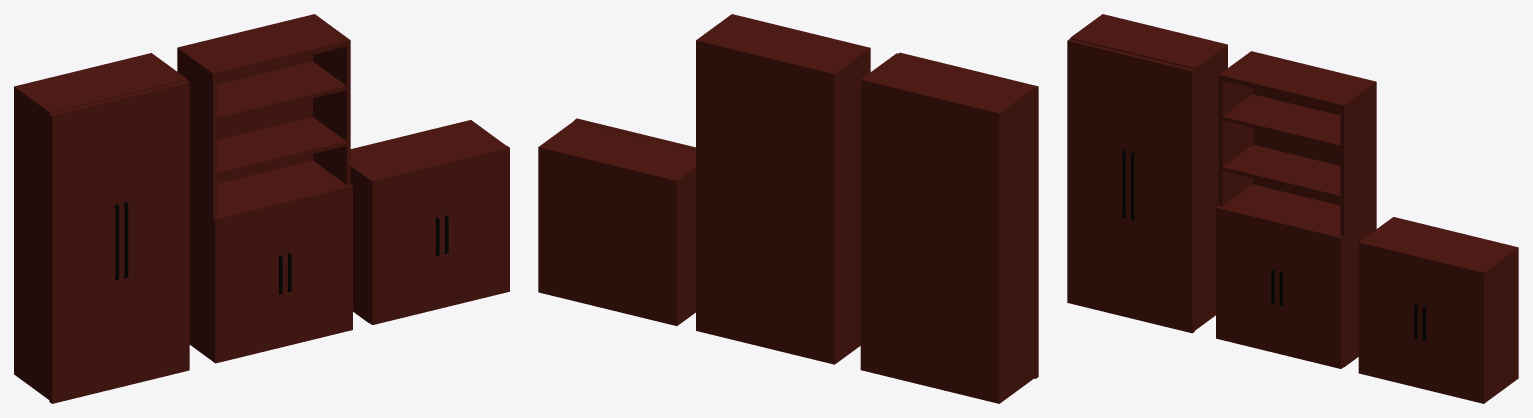
File: file_storage.fbx
3 views of the same model, side by side, from view 1: azimuth 30°, elevation 25°; view 2: azimuth 150°, elevation 25°; view 3: azimuth 330°, elevation 25° (orthographic). The views are drawn at different scales.
Parts seen in each view (by area): view 1: cabinet.001, door, door.001, cabinet, door.003, door.004, door.005, door.002, cabinet.002; view 2: cabinet, cabinet.001, cabinet.002, door; view 3: cabinet.001, door.001, door, cabinet, door.005, door.002, door.004, door.003, cabinet.002.
Boxes of the visible parts, x1,y1,x2,y2 form: cabinet.001: (177,14,350,360); door: (49,97,120,403); door.001: (118,80,189,386); cabinet: (14,53,187,399); door.003: (212,201,284,363); door.004: (369,162,441,324); door.005: (438,146,509,308); door.002: (282,184,352,346); cabinet.002: (350,120,506,323); cabinet: (860,53,1035,403); cabinet.001: (696,14,870,364); cabinet.002: (538,121,695,325); door: (968,69,1038,378); cabinet.001: (1218,51,1376,367); door.001: (1130,54,1194,333); door: (1067,39,1131,317); cabinet: (1070,14,1227,330); door.005: (1421,256,1486,403); door.002: (1278,221,1343,368); door.004: (1358,240,1423,388); door.003: (1216,205,1280,353); cabinet.002: (1361,217,1518,401).
Bounding box in the file's own units: 333 × 201 × 50.85.
